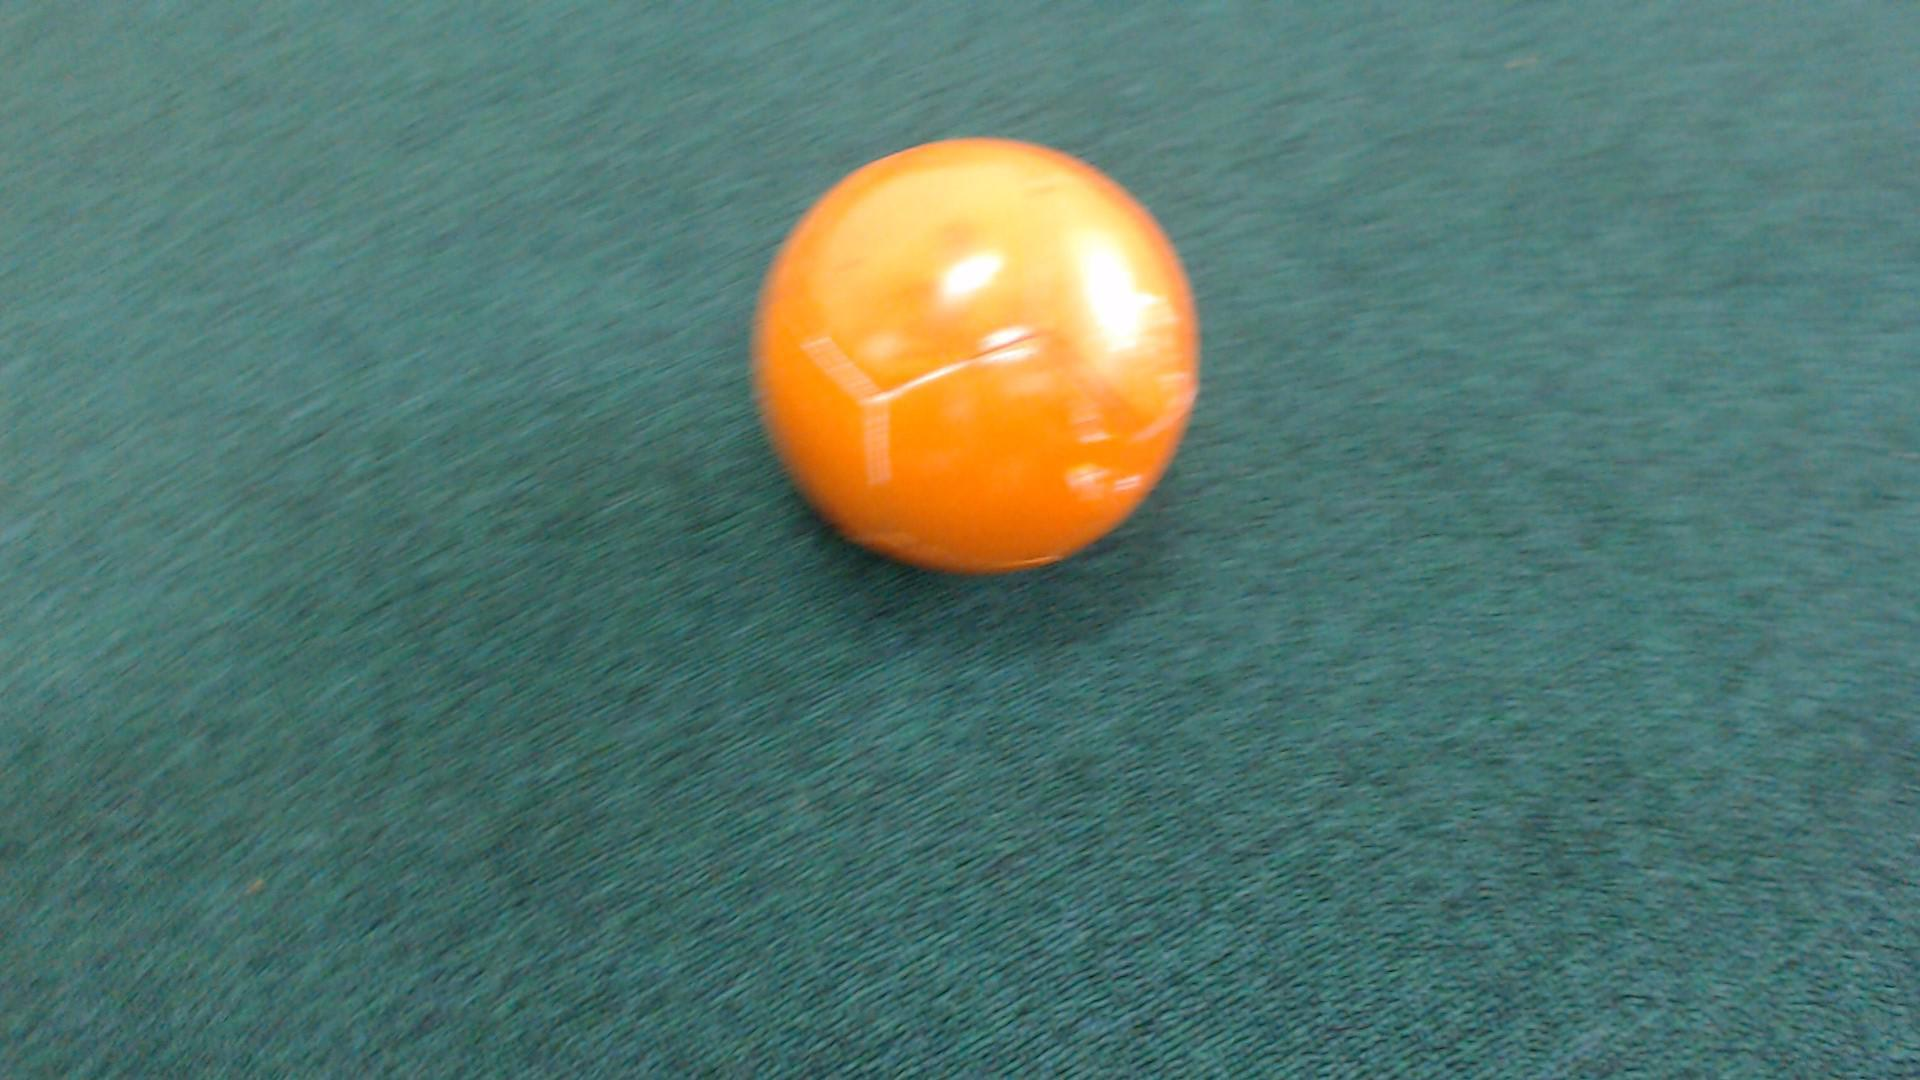bola: (715, 123, 1261, 613)
